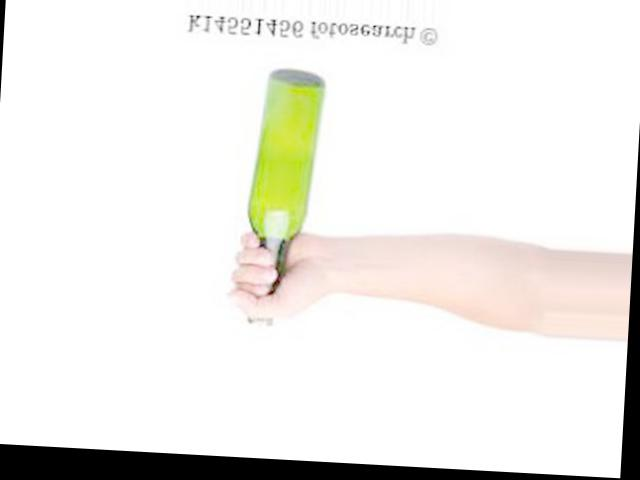beer: (242, 67, 327, 326)
